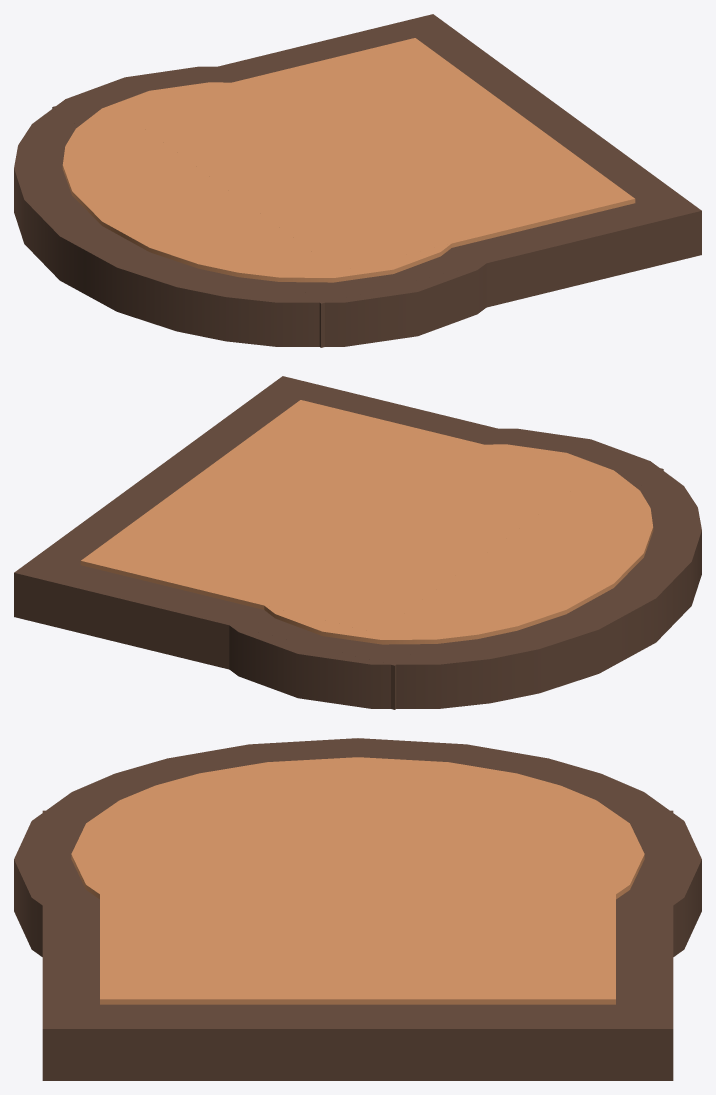
File: Toast.fbx
3 views of the same model, one above another, from view 1: azimuth 30°, elevation 25°; view 2: azimuth 150°, elevation 25°; view 3: azimuth 270°, elevation 25° (orthographic). The views are drawn at different scales.
Visible parts, largest first — view 1: TOAST; view 2: TOAST; view 3: TOAST.
Boxes of the visible parts, x1=… form: TOAST: x1=14, y1=14, x2=701, y2=347; TOAST: x1=14, y1=376, x2=701, y2=709; TOAST: x1=14, y1=738, x2=701, y2=1080.
Size of the model in its own units: 120 by 12 by 120.
